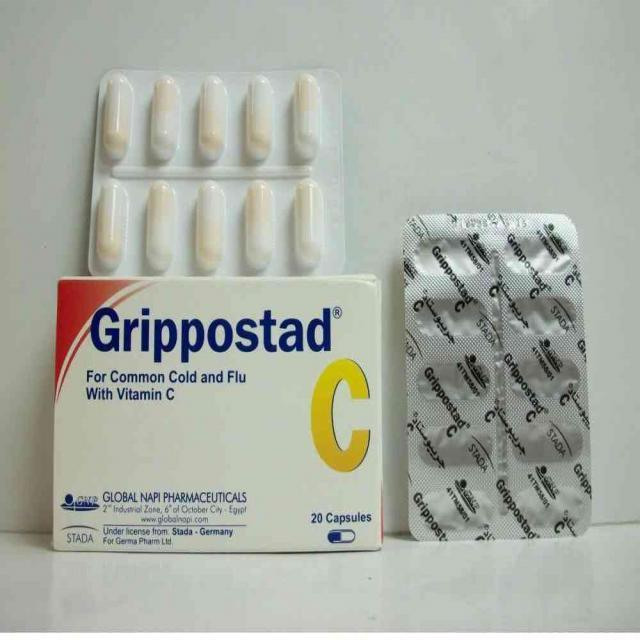drug-name: (89, 304, 333, 356)
